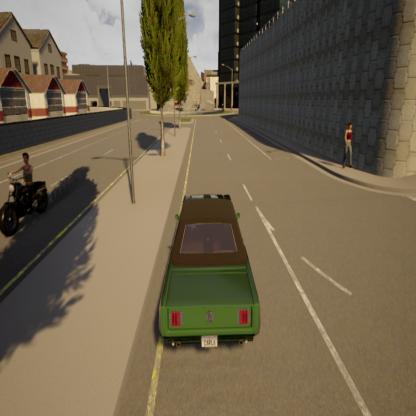Cars: (152, 167, 266, 365)
Pedestrian: (335, 108, 359, 180)
